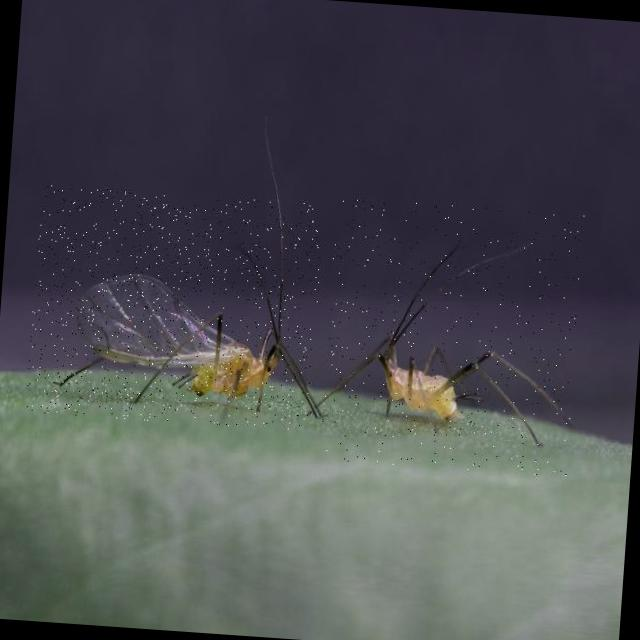aphid: (318, 196, 584, 476), (25, 185, 324, 432)
